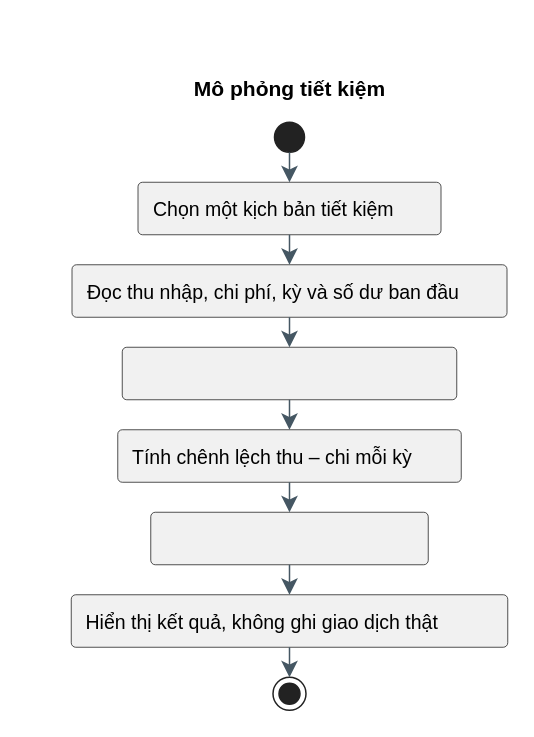
Some shapes in this 534 by 737 pixel diagram are drawn without their labels. Here are the shapes that lost their labels. From the top down, the box of each, then its label:
(121, 346, 456, 399): Kiểm tra quyền sở hữu kịch bản
(150, 511, 428, 564): Tính mức tích lũy dự kiến
